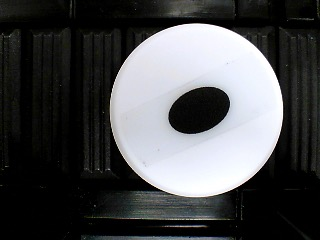BOHOEL: (110, 23, 284, 197)
